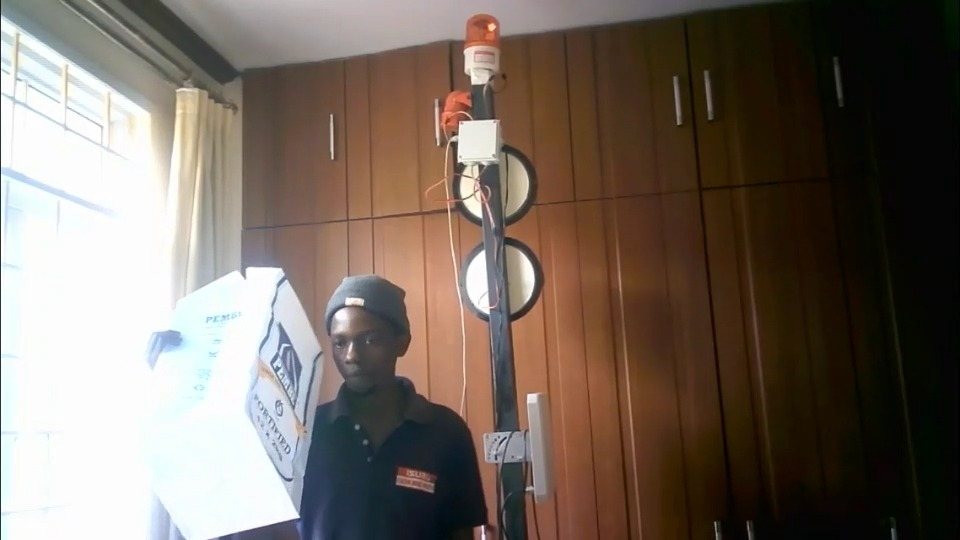wheat_flour_blue_label: (134, 268, 320, 537)
